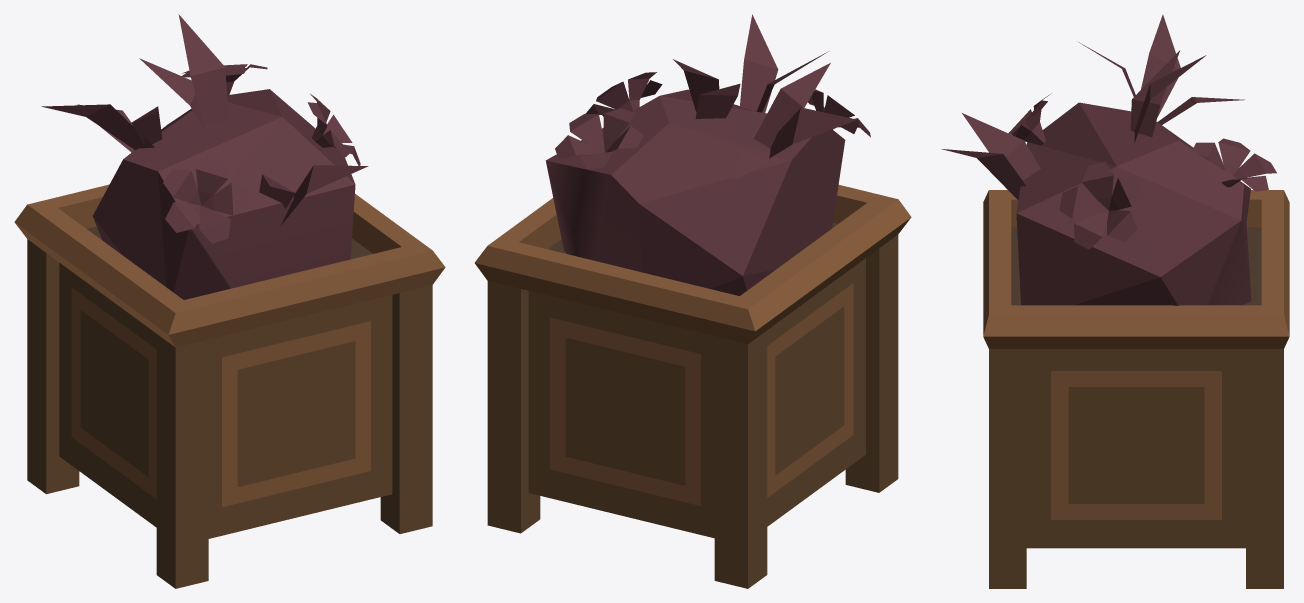
Rendered from SM_Flowerpot_Wooden_Small_Empire.fbx.
The picture shows the model from 3 angles, left to right: view 1: azimuth 30°, elevation 25°; view 2: azimuth 150°, elevation 25°; view 3: azimuth 270°, elevation 25°; orthographic projection.
Visible parts, largest first — view 1: SM_Flowerpot_Wooden_Small_Empire; view 2: SM_Flowerpot_Wooden_Small_Empire; view 3: SM_Flowerpot_Wooden_Small_Empire.
Part boxes in pixels (left/top/right/bottom): SM_Flowerpot_Wooden_Small_Empire: left=14, top=14, right=445, bottom=588; SM_Flowerpot_Wooden_Small_Empire: left=474, top=14, right=911, bottom=588; SM_Flowerpot_Wooden_Small_Empire: left=941, top=14, right=1289, bottom=588.
Bounding box in the file's own units: 0.8586 × 1.22 × 0.8311.
